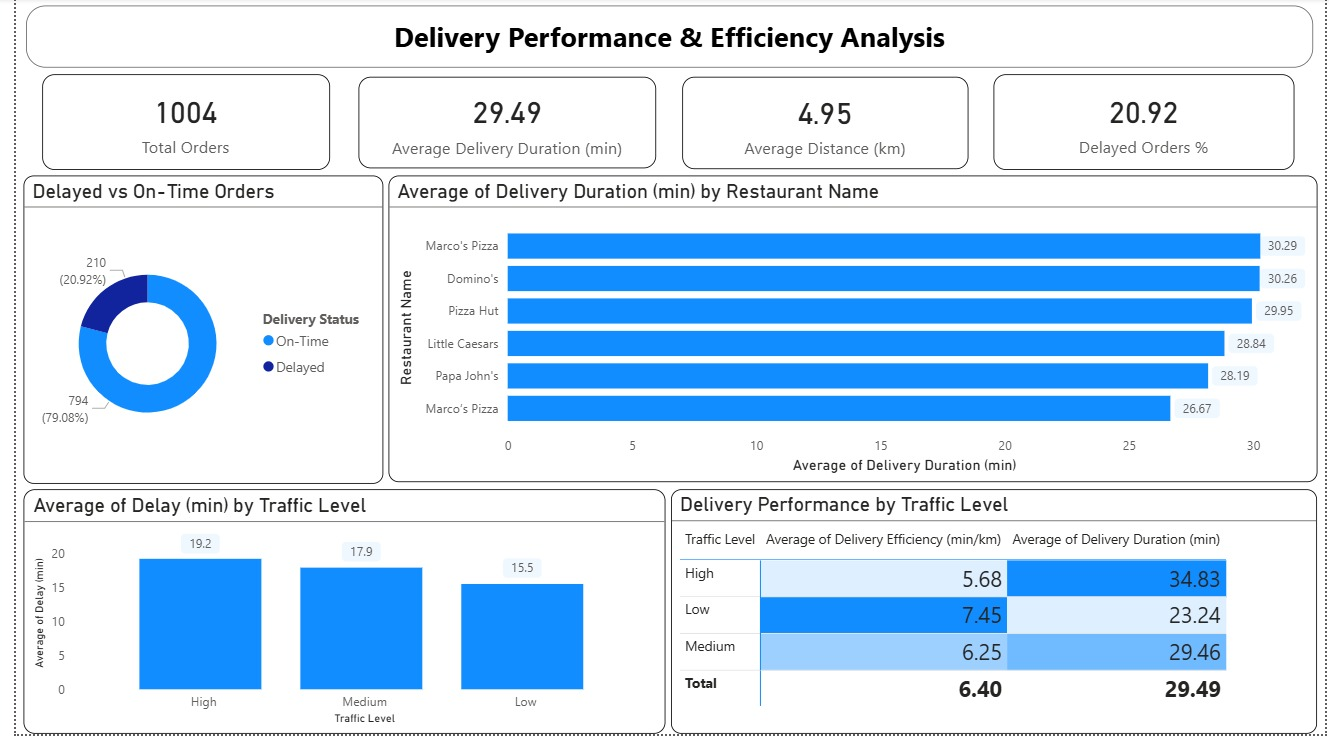

What the dashboard file says about the page in this screenshot:
{"tool":"powerbi","page":{"name":"Delivery Performance","canvas":[1280,720],"ordinal":0},"visuals":[{"type":"textbox","box":[10.1,7.2,1259.5,60.6],"z":0},{"type":"card","fields":{"Values":["Count(Sheet1.Order ID)"]},"box":[26,75,281.3,93.8],"z":1},{"type":"card","fields":{"Values":["Avg(Sheet1.Delivery Duration (min))"]},"box":[334.7,76.5,291.4,89.5],"z":2},{"type":"card","fields":{"Values":["Avg(Sheet1.Distance (km))"]},"box":[651.7,76.7,280,90],"z":3},{"type":"card","fields":{"Values":["Sheet1.Delayed Orders %"]},"box":[956.6,75,294.3,93.8],"z":4},{"type":"donutChart","title":"Delayed vs On-Time Orders","fields":{"Y":["Count(Sheet1.Order ID)"],"Category":["Sheet1.Delivery Status"]},"box":[7.2,173.1,352,301.5],"z":5},{"type":"clusteredBarChart","fields":{"Y":["Avg(Sheet1.Delivery Duration (min))"],"Category":["Sheet1.Restaurant Name"]},"box":[365,174,909,300],"z":6},{"type":"clusteredColumnChart","fields":{"Category":["Sheet1.Traffic Level"],"Y":["Avg(Sheet1.Delay (min))"]},"box":[7.2,480.4,627.6,239.5],"z":7},{"type":"pivotTable","title":"Delivery Performance by Traffic Level","fields":{"Rows":["Sheet1.Traffic Level"],"Values":["Avg(Sheet1.Delivery Efficiency (min/km))","Avg(Sheet1.Delivery Duration (min))"]},"box":[640.6,480.4,631.9,239],"z":8}]}

Visuals, with their boxes in screenshot pixels (x1, y1, x2, y2), scaled from the page's 1280x720 canvas onto the 1329x736 screenshot:
textbox: {"left": 10, "top": 7, "right": 1318, "bottom": 69}
card - Count(Sheet1.Order ID): {"left": 27, "top": 77, "right": 319, "bottom": 173}
card - Avg(Sheet1.Delivery Duration (min)): {"left": 348, "top": 78, "right": 650, "bottom": 170}
card - Avg(Sheet1.Distance (km)): {"left": 677, "top": 78, "right": 967, "bottom": 170}
card - Sheet1.Delayed Orders %: {"left": 993, "top": 77, "right": 1299, "bottom": 173}
"Delayed vs On-Time Orders" donutChart: {"left": 7, "top": 177, "right": 373, "bottom": 485}
clusteredBarChart - Avg(Sheet1.Delivery Duration (min)) x Sheet1.Restaurant Name: {"left": 379, "top": 178, "right": 1323, "bottom": 485}
clusteredColumnChart - Sheet1.Traffic Level x Avg(Sheet1.Delay (min)): {"left": 7, "top": 491, "right": 659, "bottom": 735}
"Delivery Performance by Traffic Level" pivotTable: {"left": 665, "top": 491, "right": 1321, "bottom": 735}
